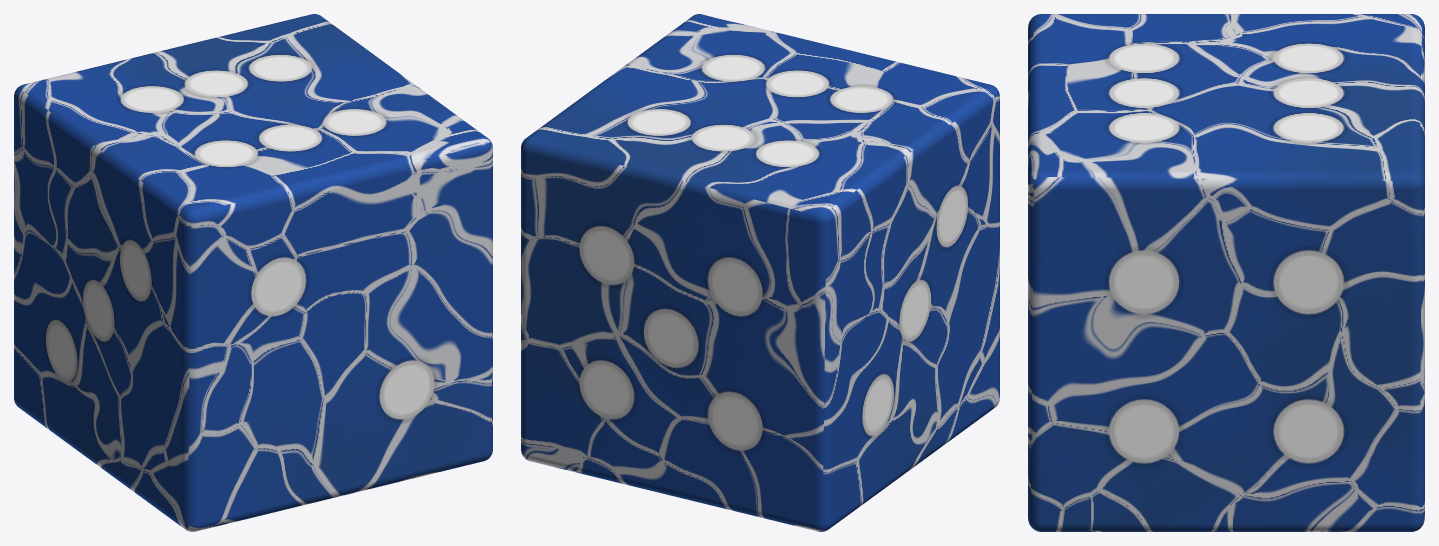
File: die-6.glb
3 renders of one model, left to right at view 1: azimuth 30°, elevation 25°; view 2: azimuth 150°, elevation 25°; view 3: azimuth 270°, elevation 25°, orthographic. The views are drawn at different scales.
Parts seen in each view (by area): view 1: Light Side D6; view 2: Light Side D6; view 3: Light Side D6.
Part boxes in pixels (x1,y1,x2,y2): Light Side D6: [14, 14, 492, 531]; Light Side D6: [521, 14, 999, 531]; Light Side D6: [1028, 14, 1424, 531].
Bounding box in the file's own units: 0.05 × 0.05 × 0.05.
Materials: 1 (1 with a texture image).
